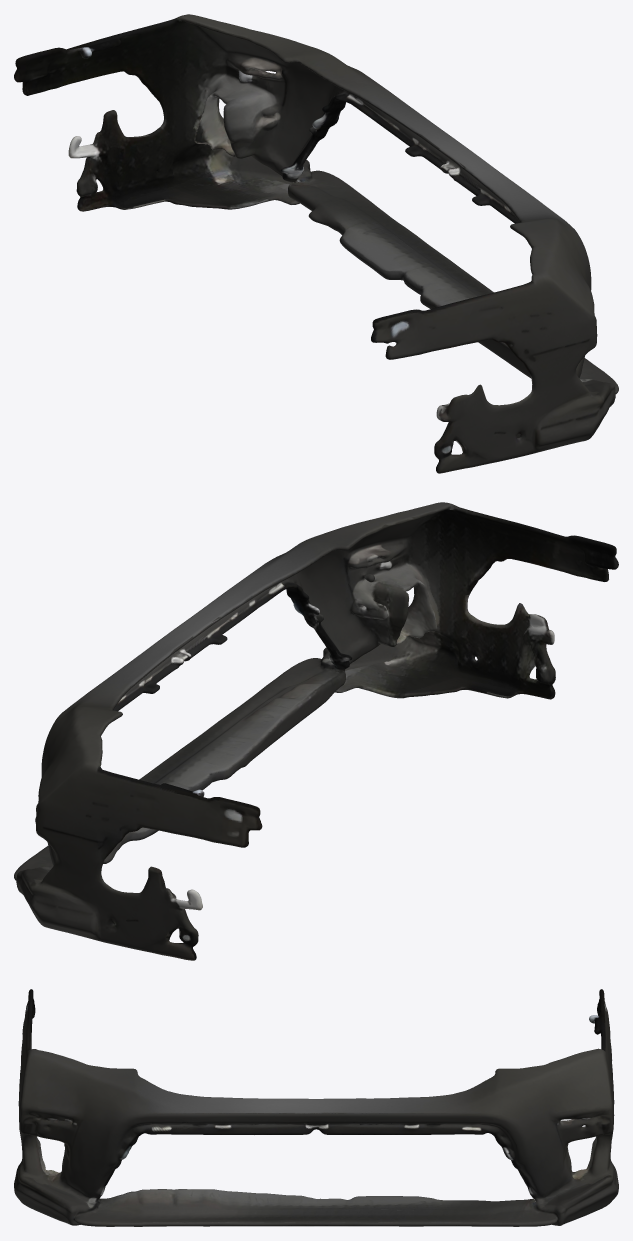
The model's file is civicfbumper1.glb.
The picture shows the model from 3 angles, top to bottom: view 1: azimuth 30°, elevation 25°; view 2: azimuth 150°, elevation 25°; view 3: azimuth 270°, elevation 25°; orthographic projection. The views are drawn at different scales.
Parts seen in each view (by area): view 1: tripo_node_80e87f9f-883b-4799-bb53-200fdc26c6d3; view 2: tripo_node_80e87f9f-883b-4799-bb53-200fdc26c6d3; view 3: tripo_node_80e87f9f-883b-4799-bb53-200fdc26c6d3.
Part boxes in pixels (<box>): tripo_node_80e87f9f-883b-4799-bb53-200fdc26c6d3: <box>14,14,618,473</box>; tripo_node_80e87f9f-883b-4799-bb53-200fdc26c6d3: <box>14,502,618,960</box>; tripo_node_80e87f9f-883b-4799-bb53-200fdc26c6d3: <box>14,989,618,1226</box>.
Size of the model in its own units: 0.4114 by 0.2486 by 0.9491.
Materials: 1 (1 with a texture image).
